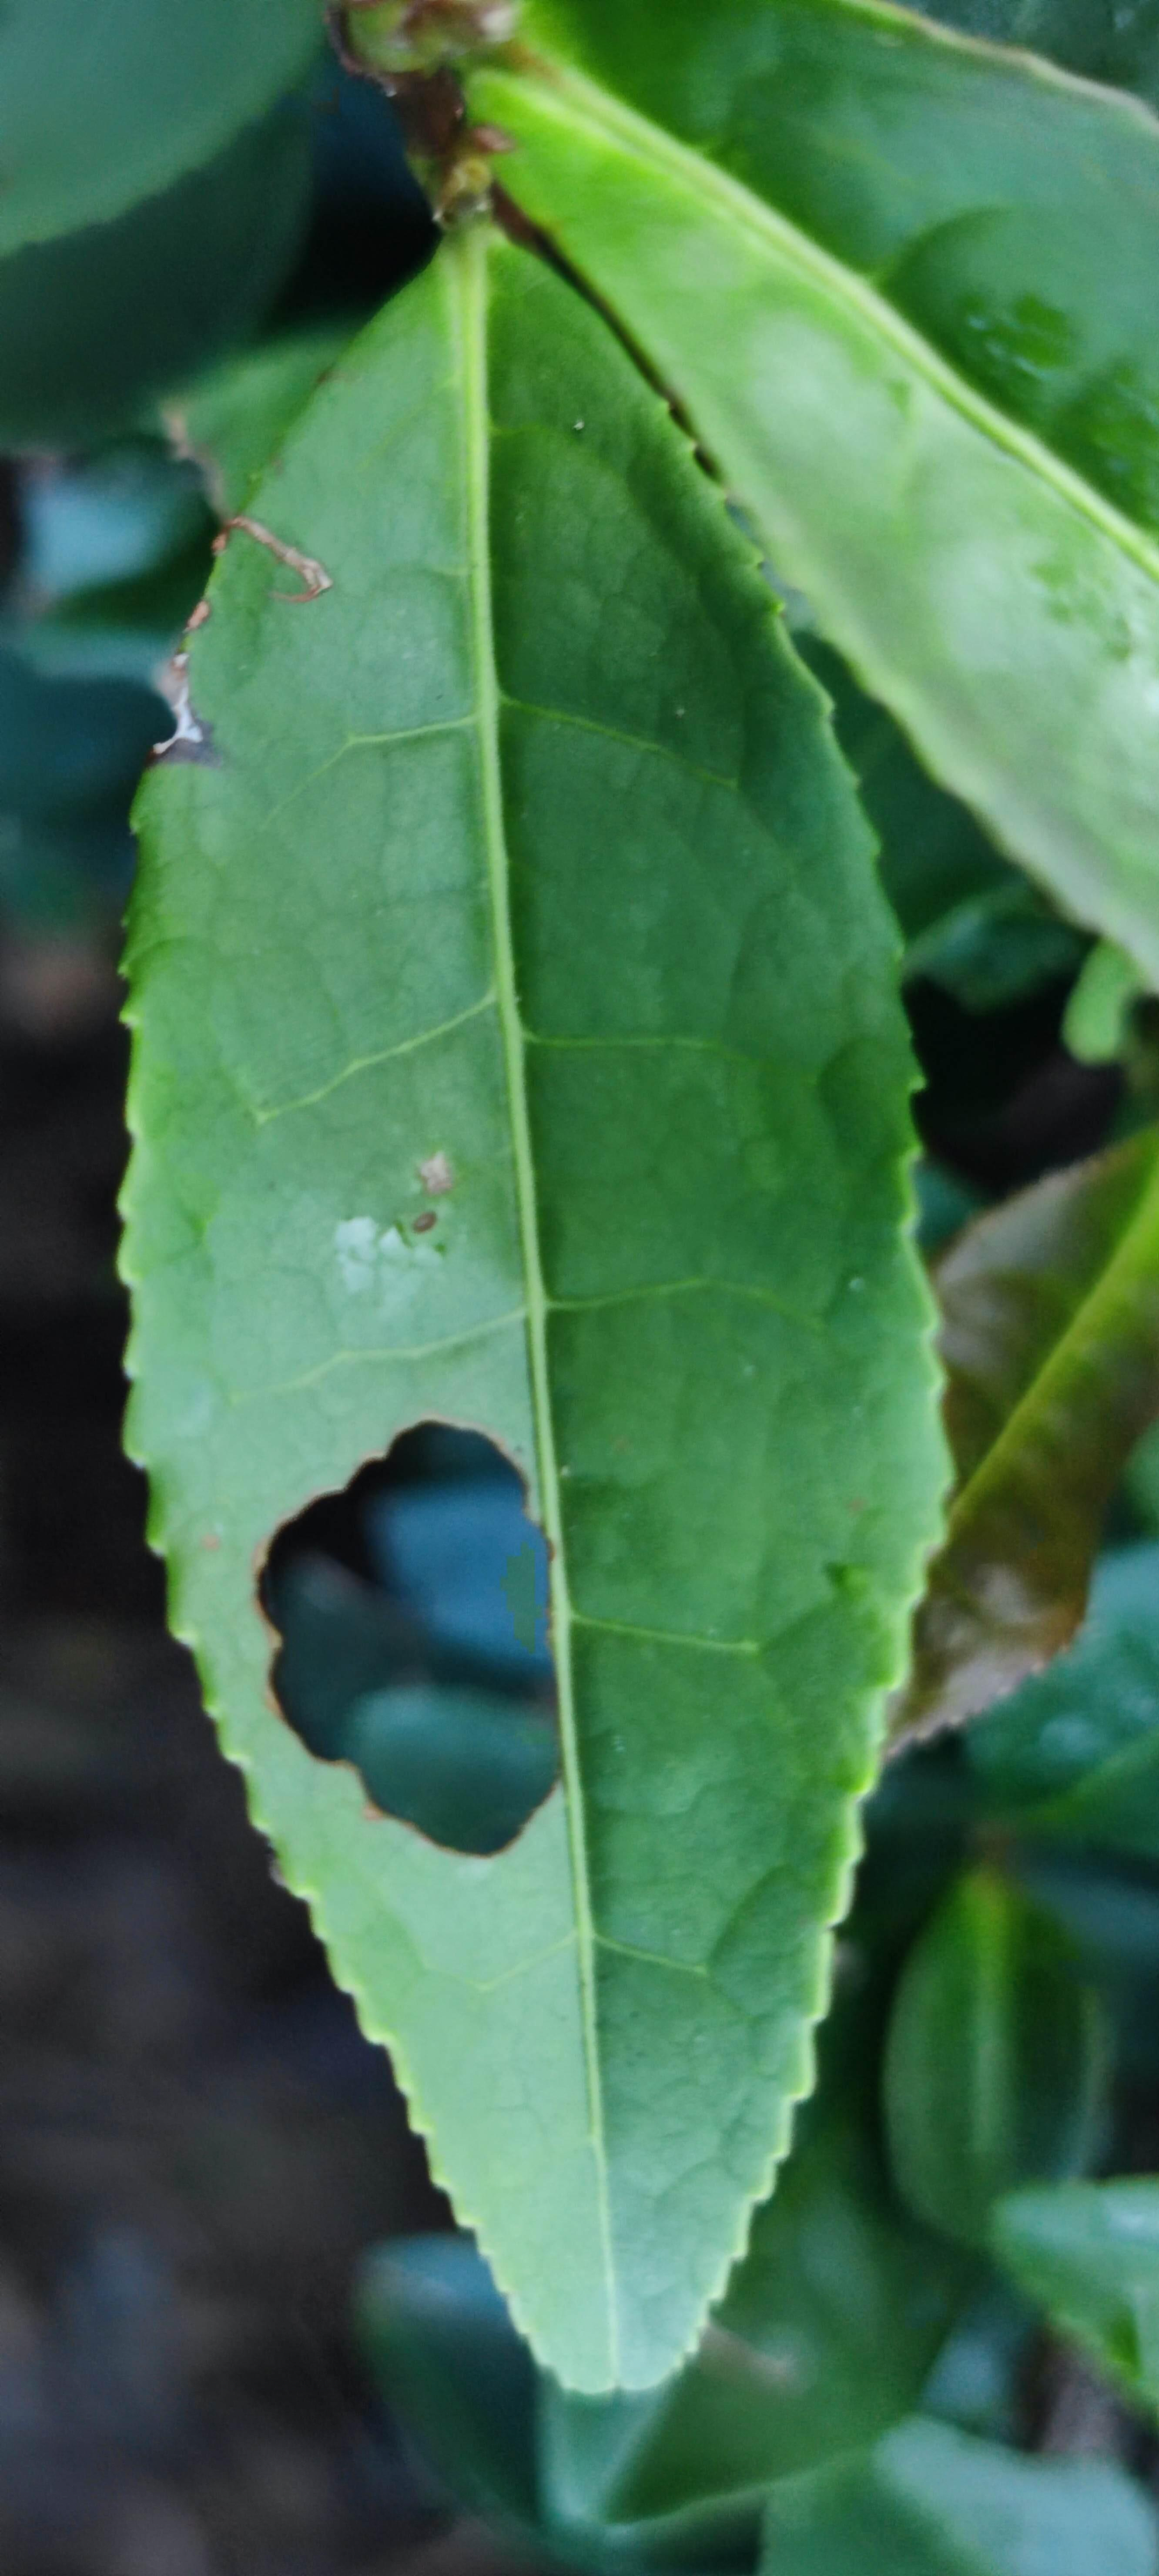chihuo_high: (110, 227, 960, 2412)
healthy: (468, 2, 1156, 986)
